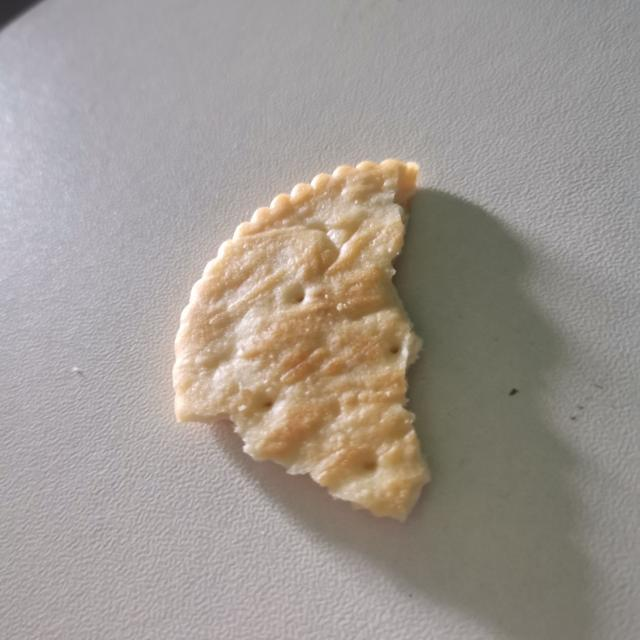Broken: (171, 157, 432, 523)
